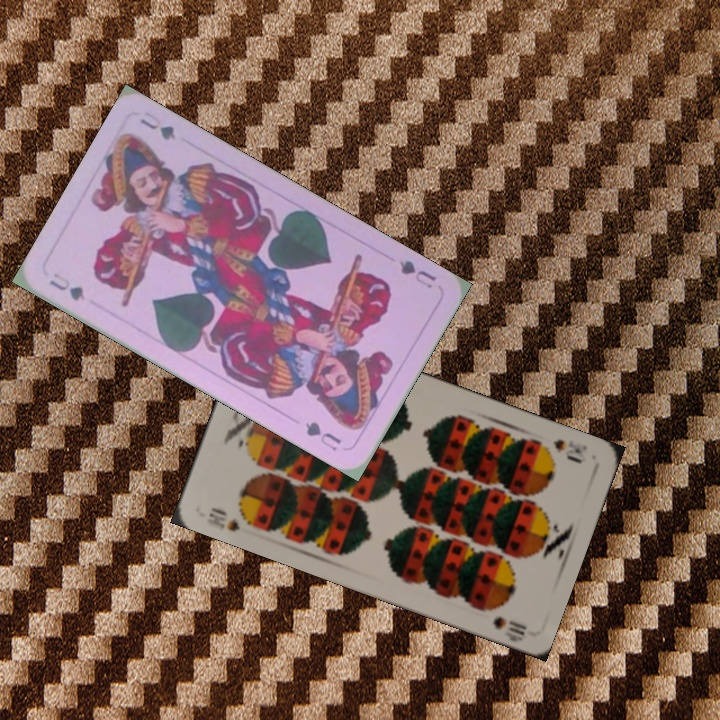GU: (395, 256, 439, 292), (45, 268, 88, 304)
S10: (203, 503, 258, 535), (549, 434, 590, 457)
